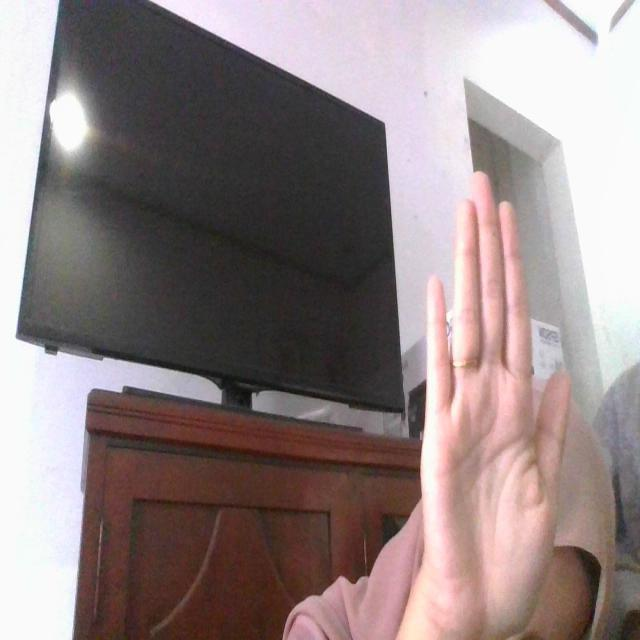hand: (416, 162, 573, 640)
